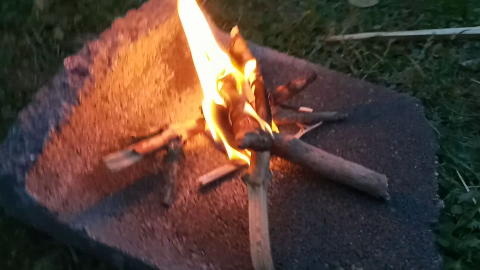fire: (170, 1, 276, 166)
